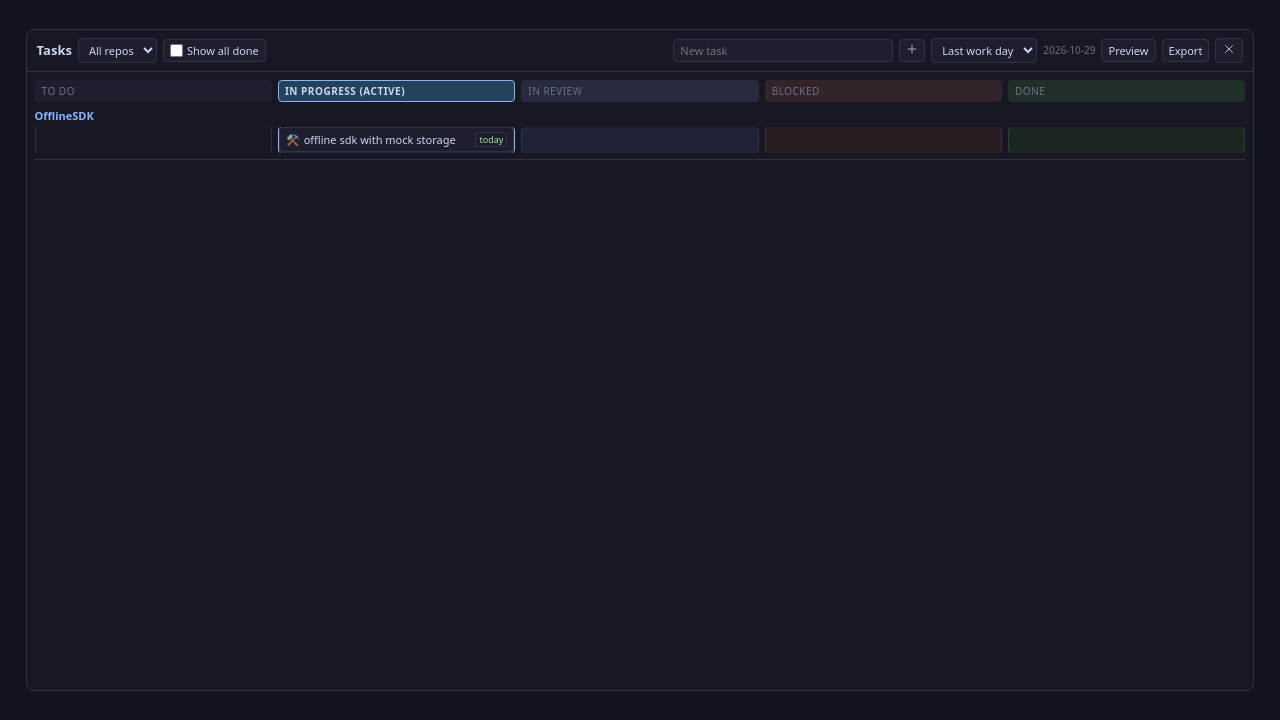
Test case: devlog export › refuses to export when no devlog folder is configured
Expected: the text "offline sdk with mock storage" is shown, x1=304 y1=132 x2=472 y2=147
Click the button with test id "devlog-export" at (1185, 50), box x1=1162 y1=39 x2=1209 y2=62
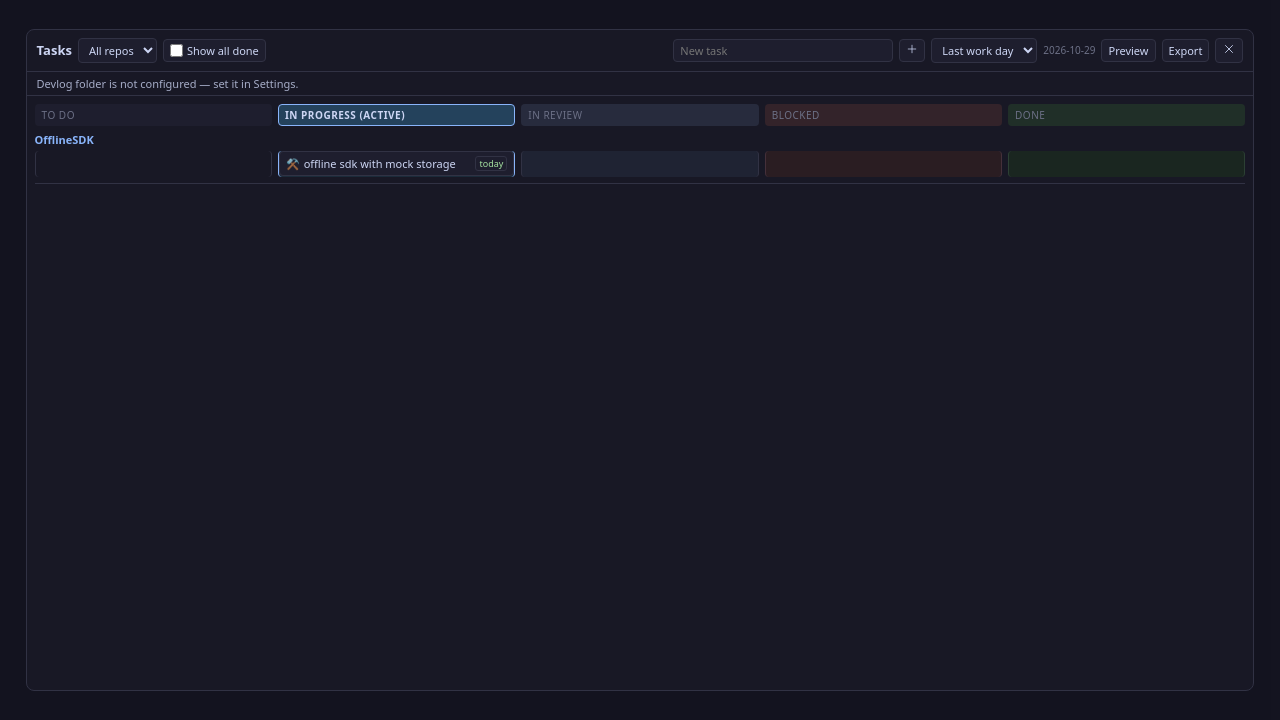
Now the text with test id "devlog-status" shows "not configured", box x1=37 y1=76 x2=298 y2=91
